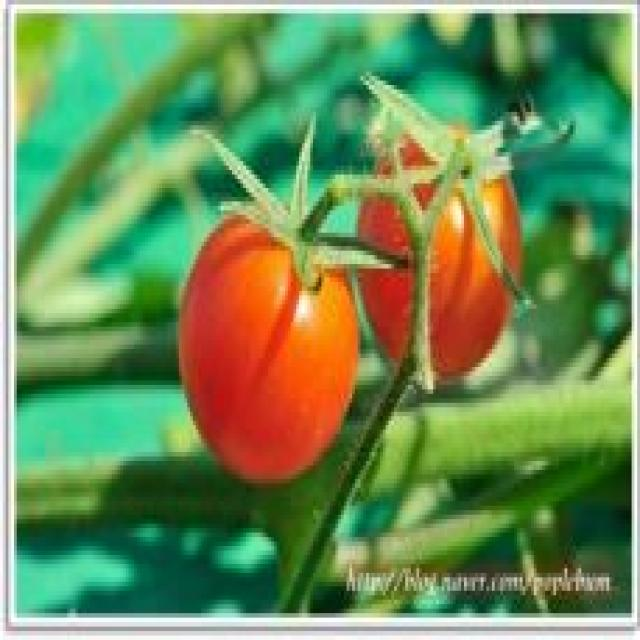level 6: (336, 97, 543, 402), (164, 200, 363, 487)
